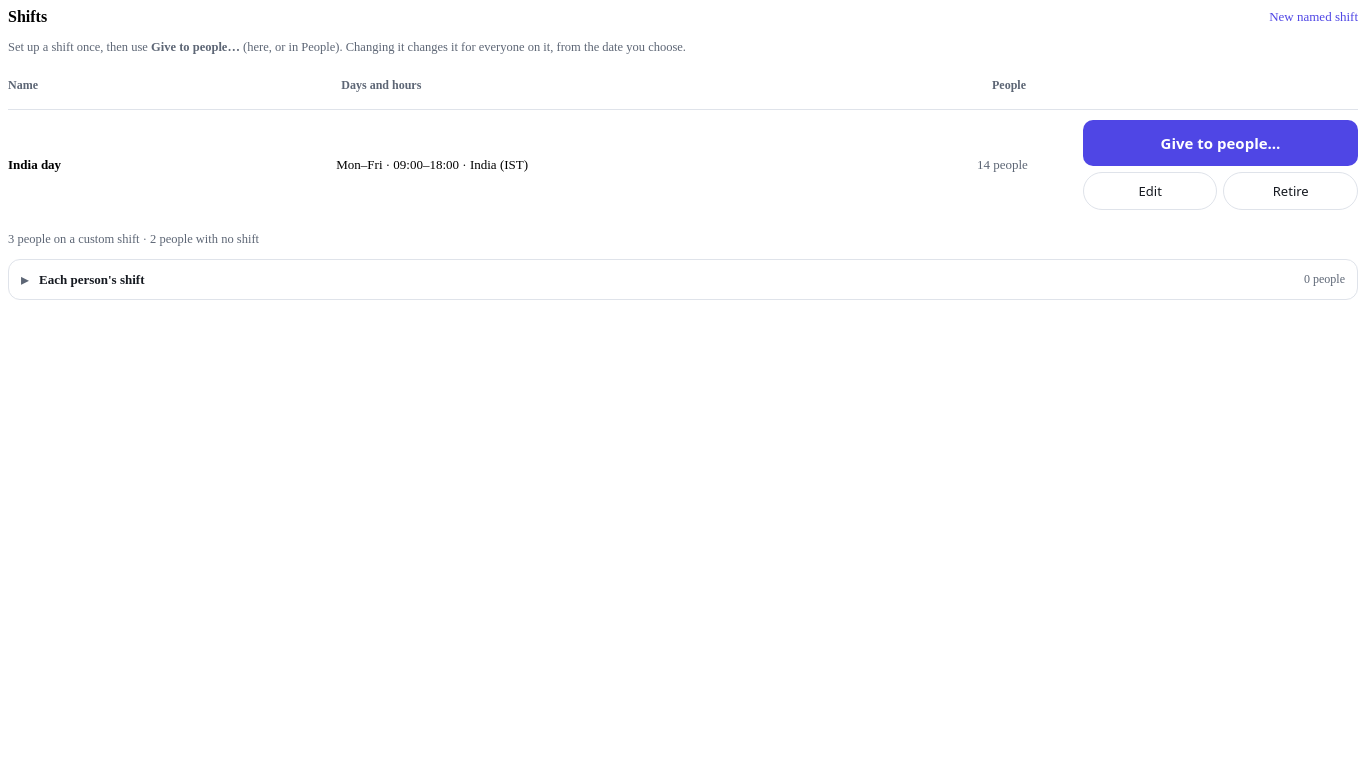
Scenario: Shifts page (ADR-0038 §6) › makes a named shift
Click the button "New named shift". click: (1314, 17)
box: [1269,9,1358,25]
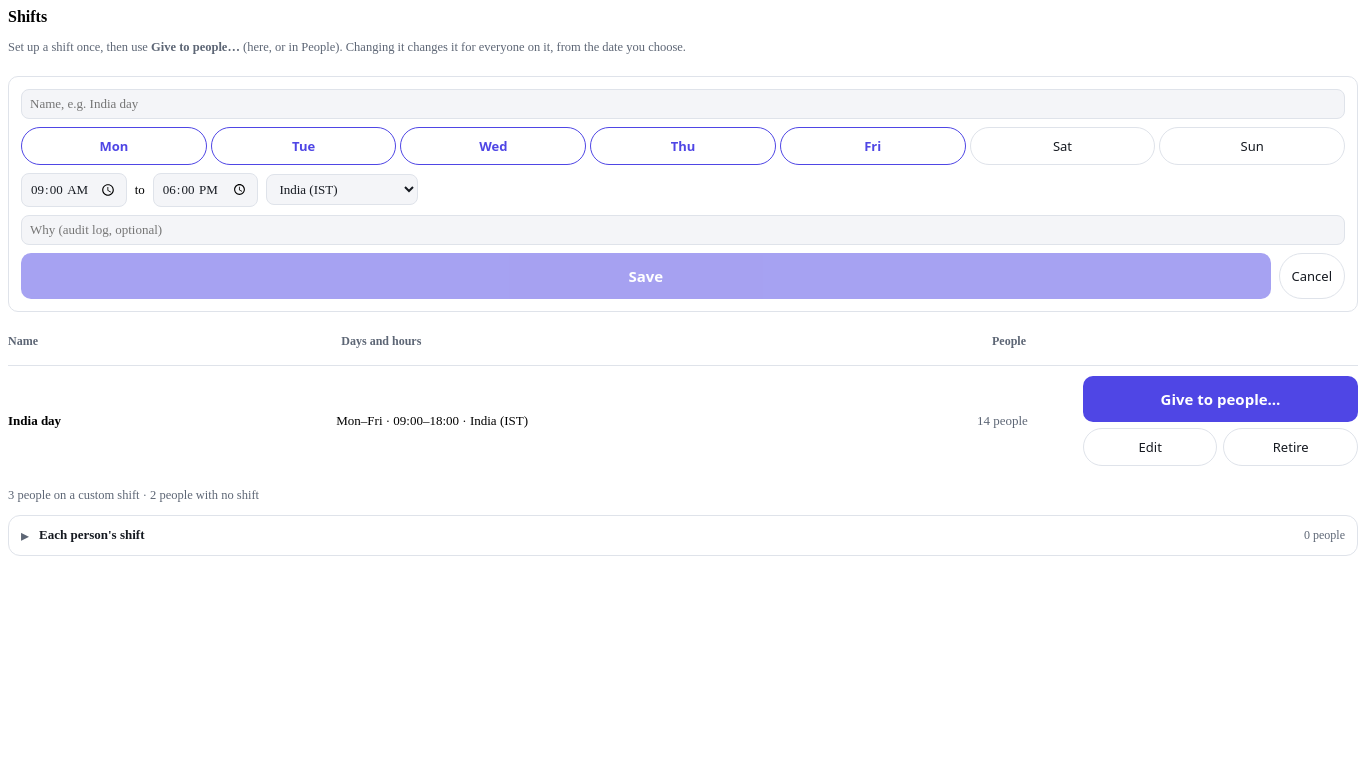
Type "US Eastern" into the field named "shift-name". click: (683, 104)
box: [21,89,1345,119]
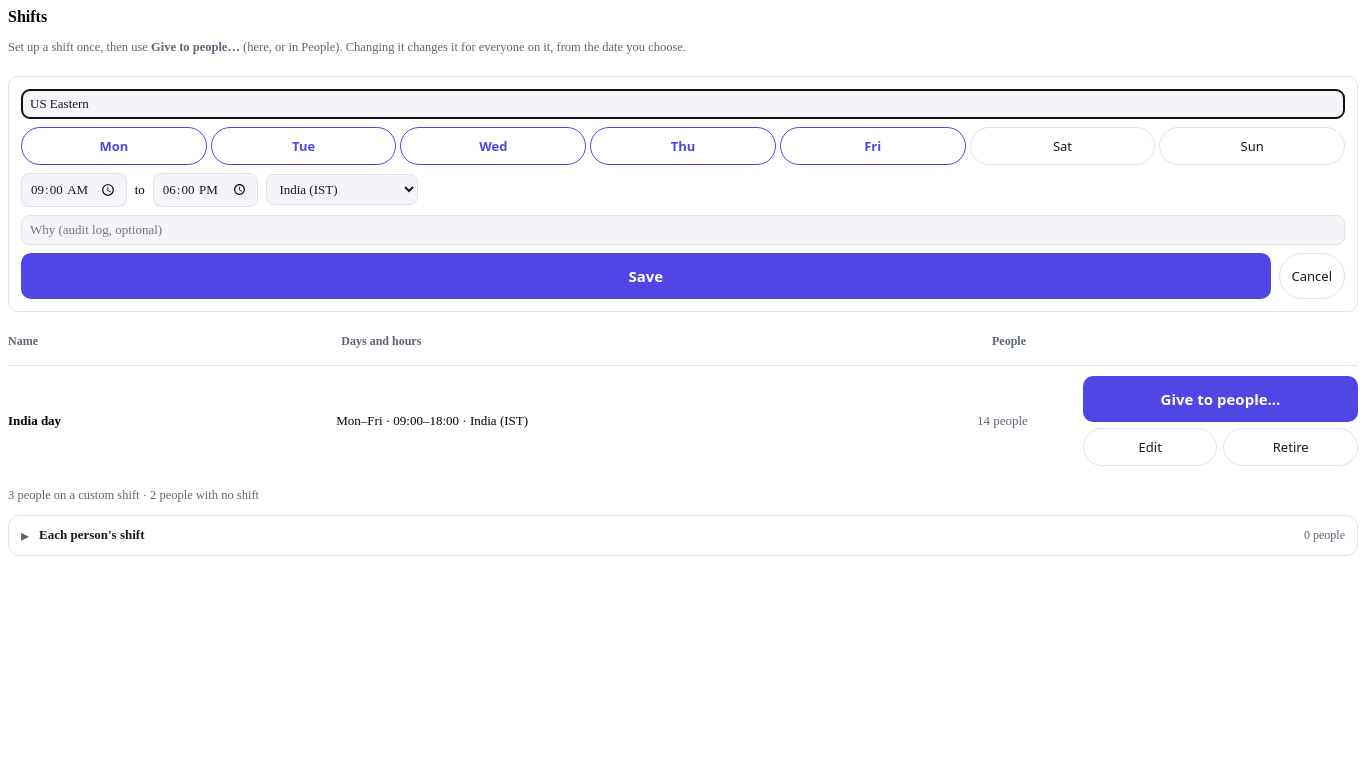
Select "US Eastern" in the dropdown named "shift-zone". click: (342, 190)
box: [266,174,418,205]
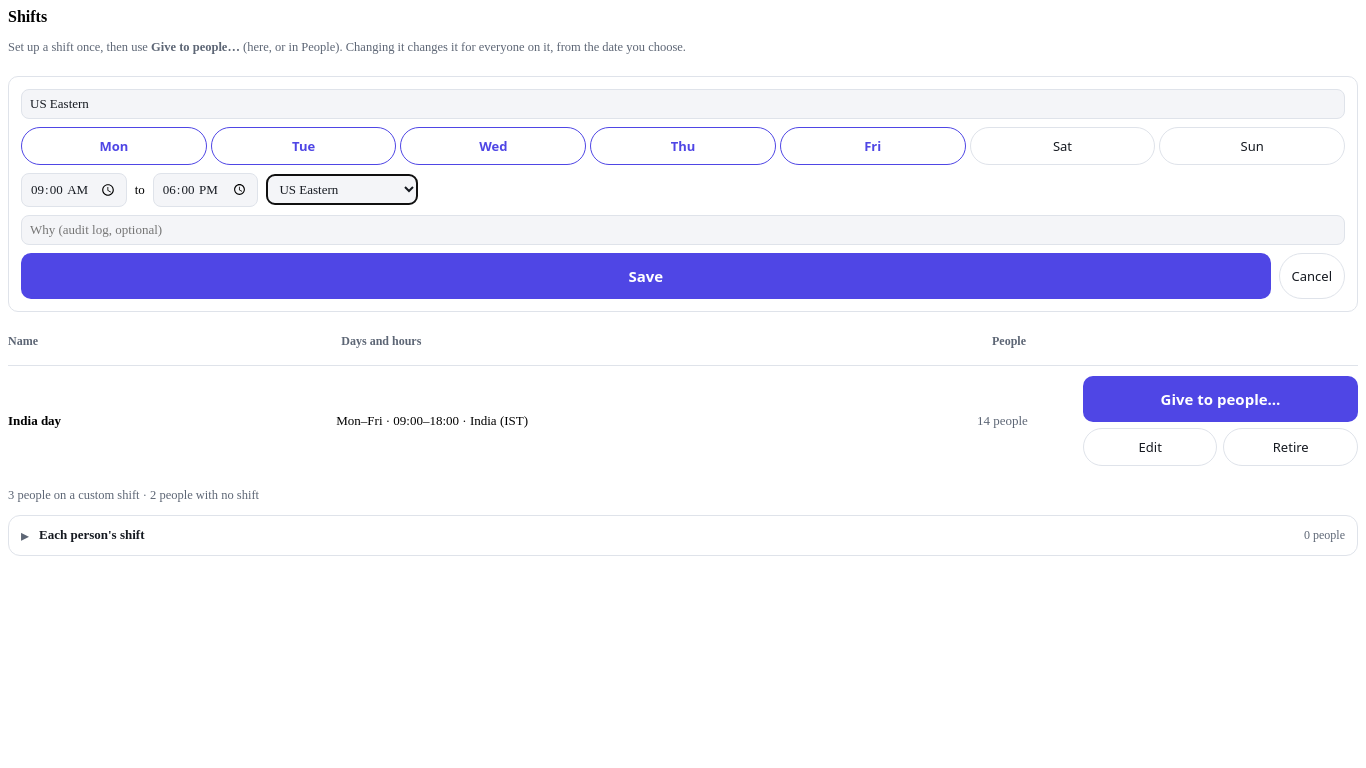
Click the button "Save". click: (646, 276)
box: [21,253,1270,299]
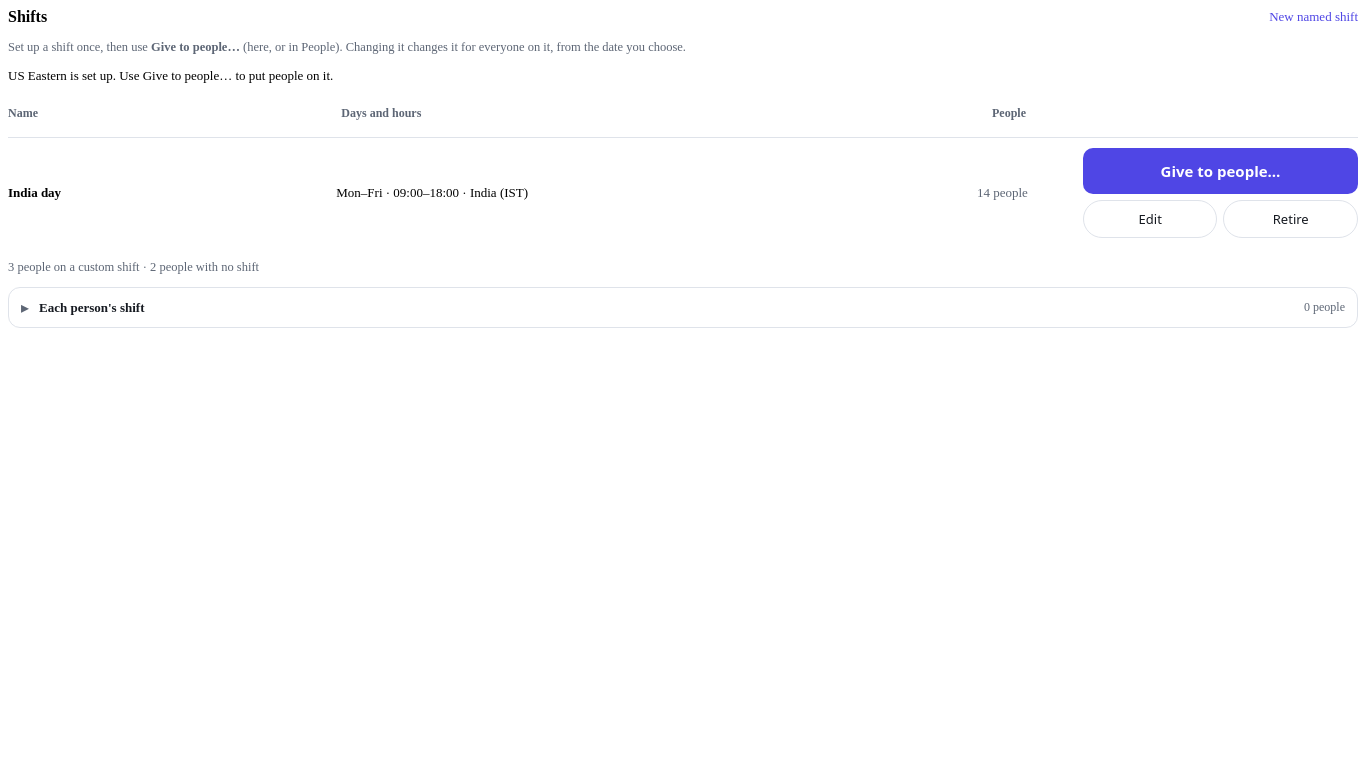
Expected: the message shows "US Eastern is set up.", [8,68,333,83]
